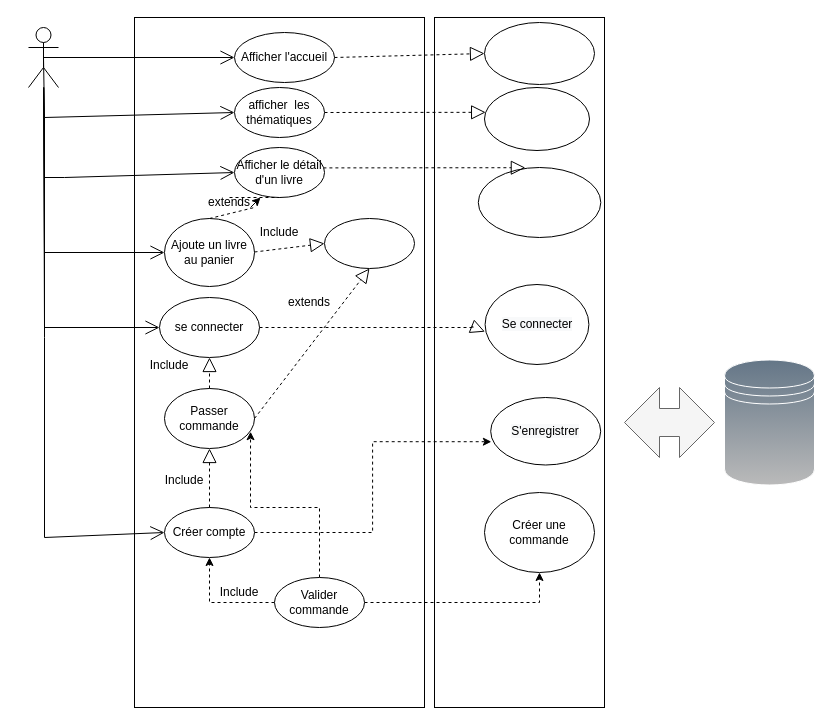
The diagram is 832 pixels wide and 725 high, and some of its shapes have lost their labels. The shapes that lost their labels are listed below. From the top down, each one's box as (x1, y1, x2, y2) in pixels, then its label:
(28, 26, 58, 88): Utilisateur
(484, 22, 594, 84): Renvoi le liste de livres en BD
(484, 86, 590, 150): Renvoi la liste des thématique
(477, 166, 601, 238): Renvoi les détails d'un livre
(324, 218, 414, 268): Créer panier
